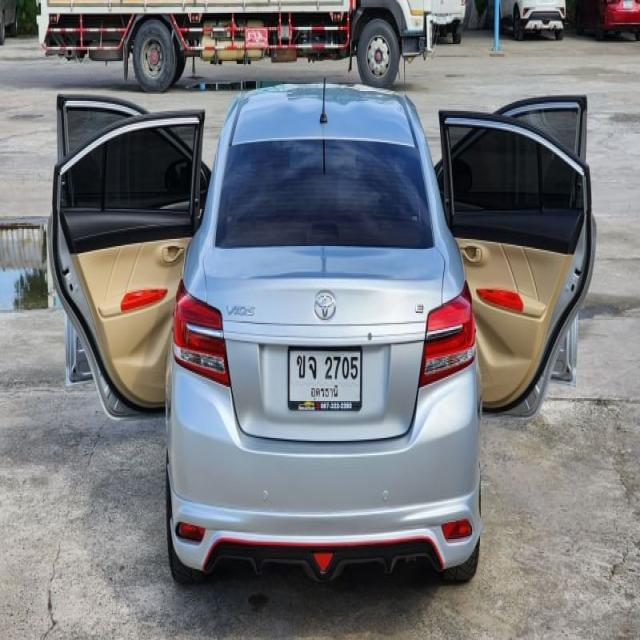license_plate: (284, 339, 367, 417)
